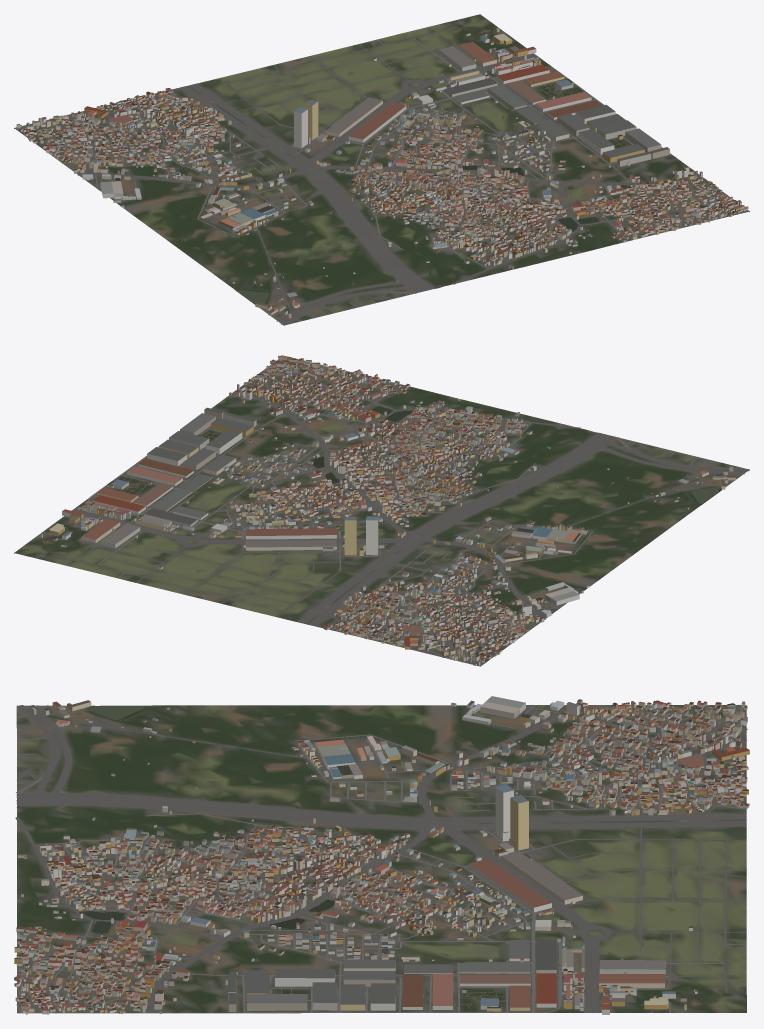
3 views of the same model, one above another, from view 1: azimuth 30°, elevation 25°; view 2: azimuth 150°, elevation 25°; view 3: azimuth 270°, elevation 25° (orthographic). The views are drawn at different scales.
Visible parts, largest first — view 1: ground, buildings, roads, water; view 2: ground, buildings, roads, water; view 3: ground, buildings, roads, water.
Boxes of the visible parts, bbox=[...] form: ground: bbox=[14, 14, 749, 325]; buildings: bbox=[16, 27, 748, 318]; roads: bbox=[15, 27, 748, 325]; water: bbox=[238, 165, 679, 303]; ground: bbox=[14, 355, 749, 666]; buildings: bbox=[40, 355, 735, 665]; roads: bbox=[42, 358, 748, 666]; water: bbox=[311, 379, 719, 505]; ground: bbox=[16, 705, 746, 1013]; buildings: bbox=[14, 696, 749, 1014]; roads: bbox=[15, 704, 747, 1013]; water: bbox=[17, 705, 334, 977].
Size of the model in its own units: 1423 by 104 by 1414.
